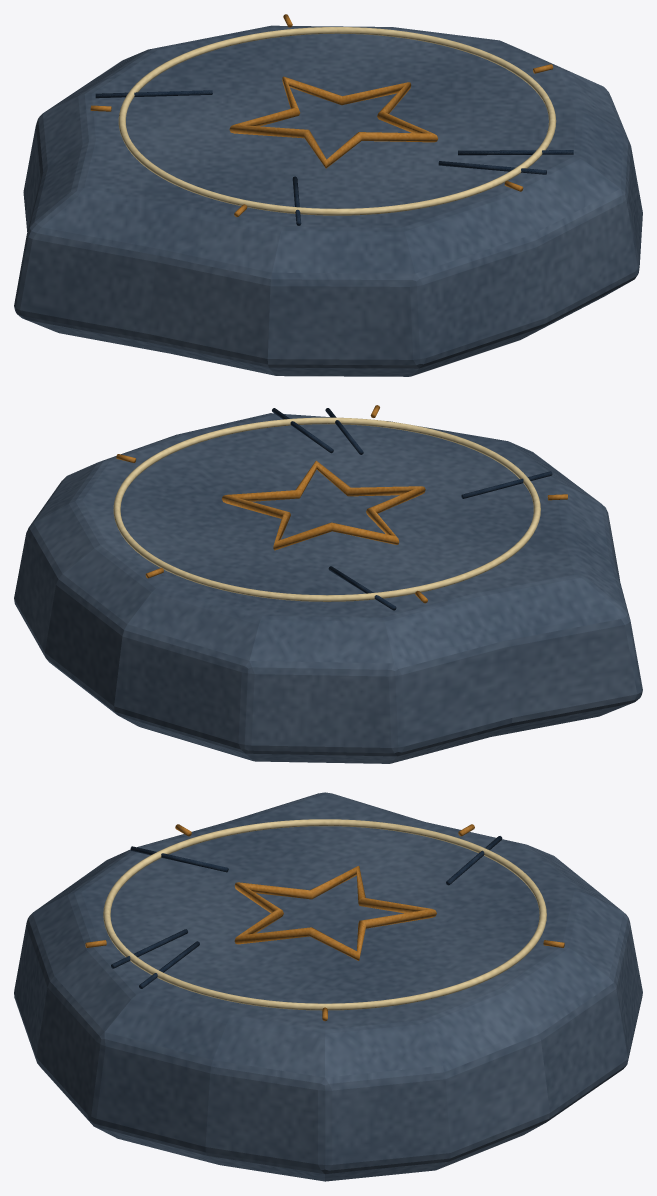
File: ShadowStone0.fbx
3 views of the same model, one above another, from view 1: azimuth 30°, elevation 25°; view 2: azimuth 150°, elevation 25°; view 3: azimuth 270°, elevation 25° (orthographic). The views are drawn at different scales.
Visible parts, largest first — view 1: River stone.009, Weathered border.009, Inlaid wish sigil.015, Mineral seam.036, Mineral seam.038, Mineral seam.037; view 2: River stone.009, Weathered border.009, Inlaid wish sigil.015; view 3: River stone.009, Weathered border.009, Inlaid wish sigil.015.
Boxes of the visible parts, box(x1,y1,x2,y2) form: River stone.009: box(14, 25, 642, 376); Weathered border.009: box(118, 27, 556, 215); Inlaid wish sigil.015: box(229, 76, 438, 168); Mineral seam.036: box(95, 90, 212, 98); Mineral seam.038: box(458, 150, 573, 155); Mineral seam.037: box(438, 161, 546, 174); River stone.009: box(14, 413, 642, 763); Weathered border.009: box(113, 417, 540, 601); Inlaid wish sigil.015: box(222, 460, 425, 550); River stone.009: box(14, 792, 642, 1181); Weathered border.009: box(103, 819, 546, 1010); Inlaid wish sigil.015: box(234, 866, 436, 960).
Size of the model in its own units: 172 by 40.9 by 153.
4 materials, 4 textured.
